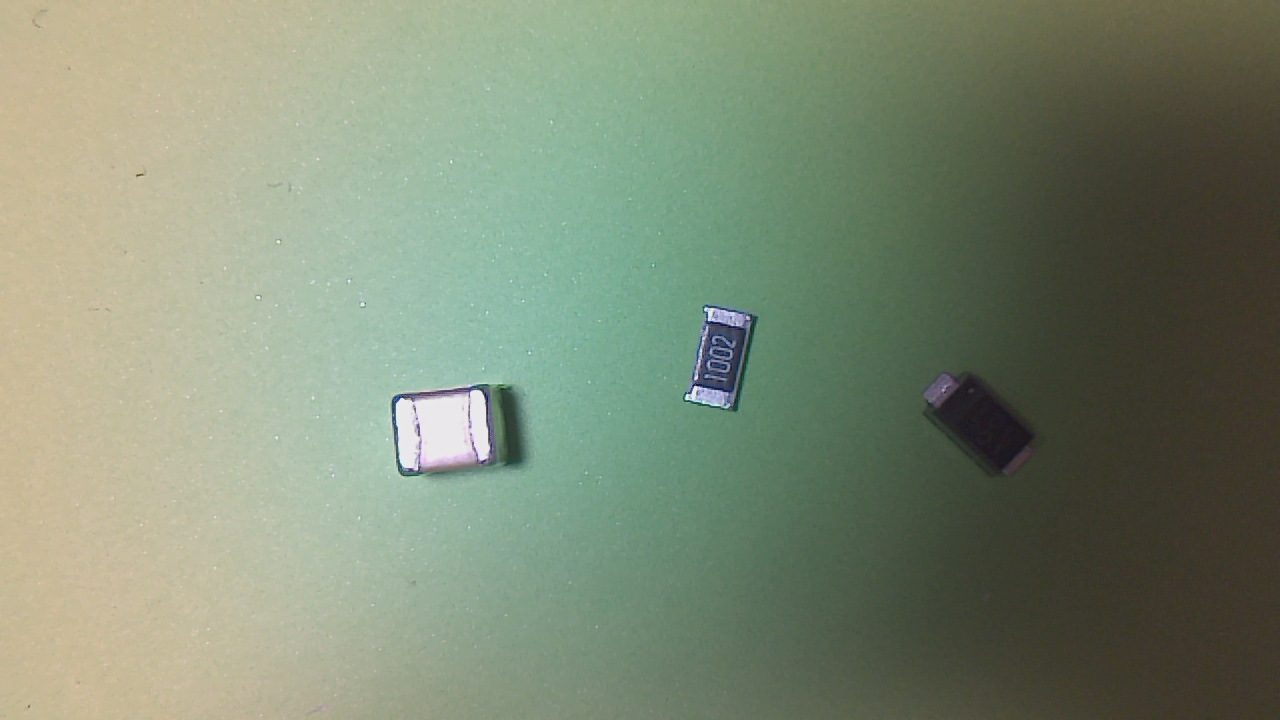Condensator: (393, 387, 502, 483)
Diode: (925, 377, 1041, 488)
Resistor: (688, 309, 762, 415)
